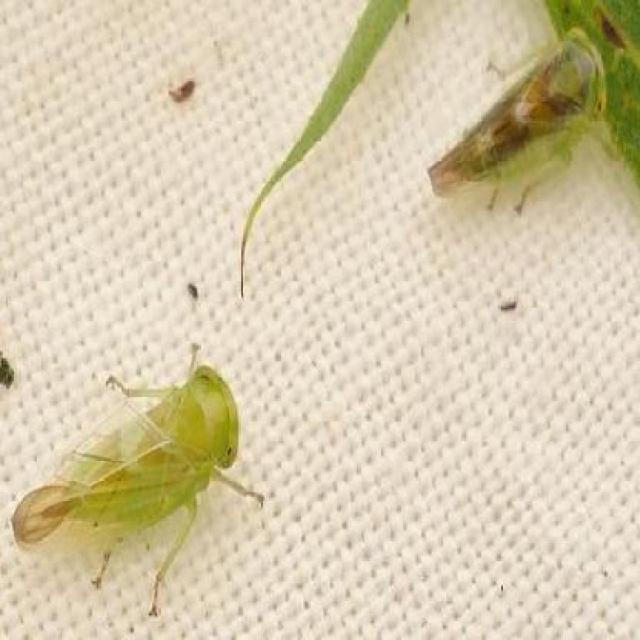green-leafhopper: (16, 342, 247, 620), (429, 25, 606, 217)
